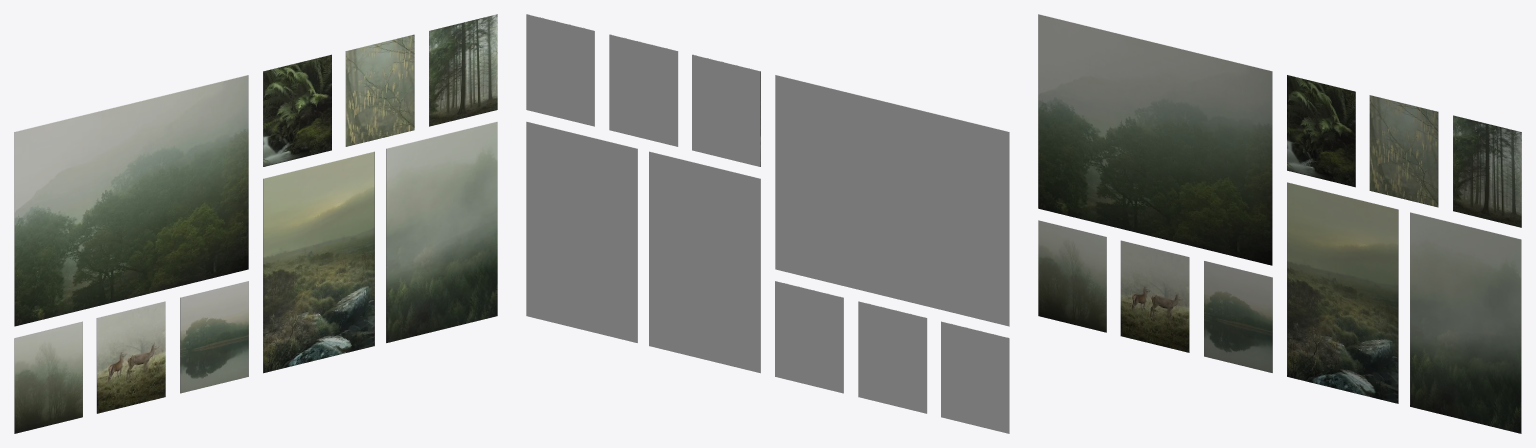
The model's file is pjatteryd_obraz_kpl_9_szt_90567970.glb.
3 views of the same model, side by side, from view 1: azimuth 30°, elevation 25°; view 2: azimuth 150°, elevation 25°; view 3: azimuth 330°, elevation 25° (orthographic).
Visible parts, largest first — view 1: pjatteryd_obraz_kpl_9_szt_90567970; view 2: pjatteryd_obraz_kpl_9_szt_90567970; view 3: pjatteryd_obraz_kpl_9_szt_90567970.
Part boxes in pixels (<box>): pjatteryd_obraz_kpl_9_szt_90567970: <box>14,14,497,433</box>; pjatteryd_obraz_kpl_9_szt_90567970: <box>526,14,1009,433</box>; pjatteryd_obraz_kpl_9_szt_90567970: <box>1038,14,1521,433</box>.
Size of the model in its own units: 1.69 by 1.01 by 0.0024.
2 materials, 1 textured.
